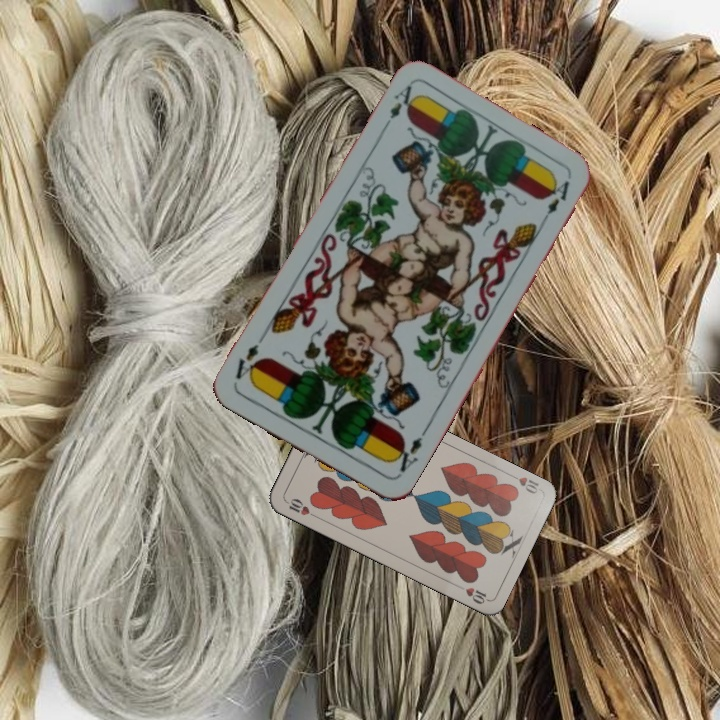EA: (378, 81, 421, 134), (387, 427, 429, 481)
H10: (282, 494, 320, 520), (505, 470, 541, 497)
